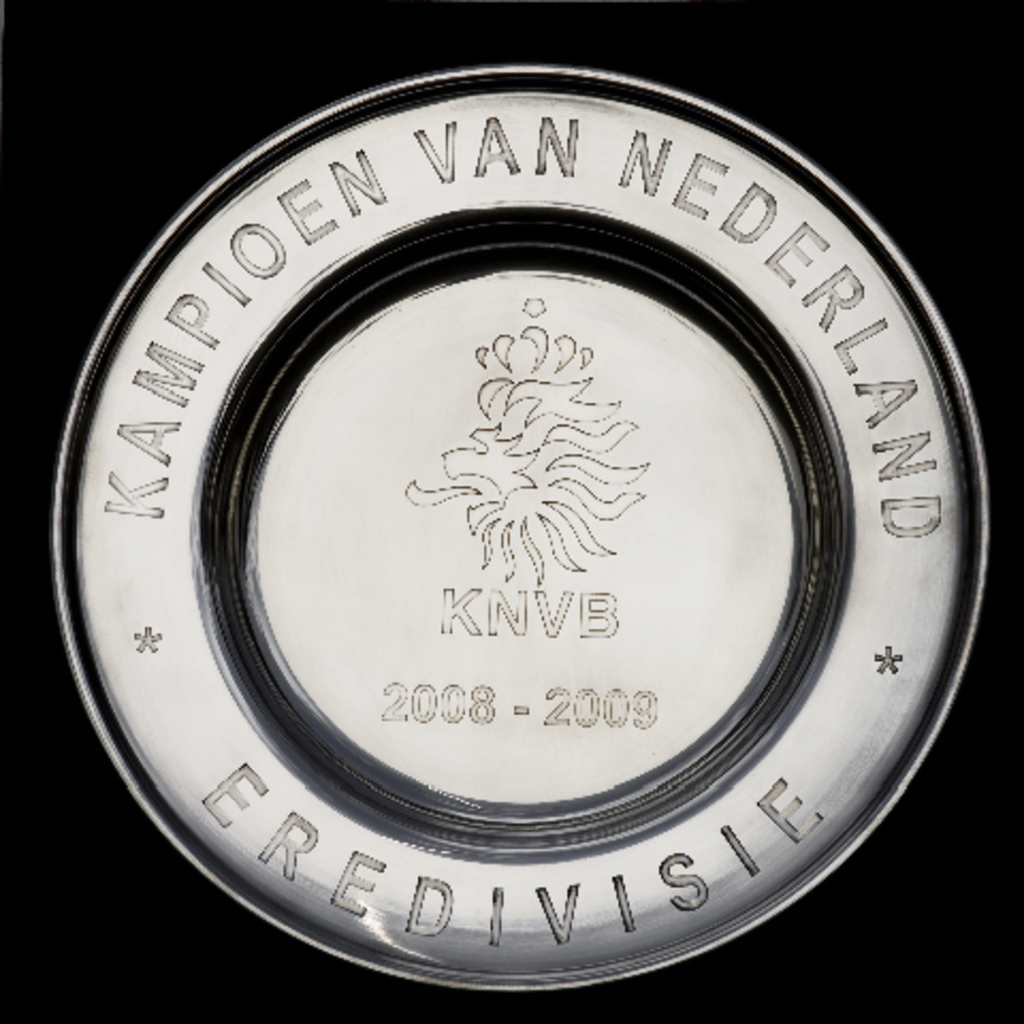plate: (53, 61, 992, 992)
